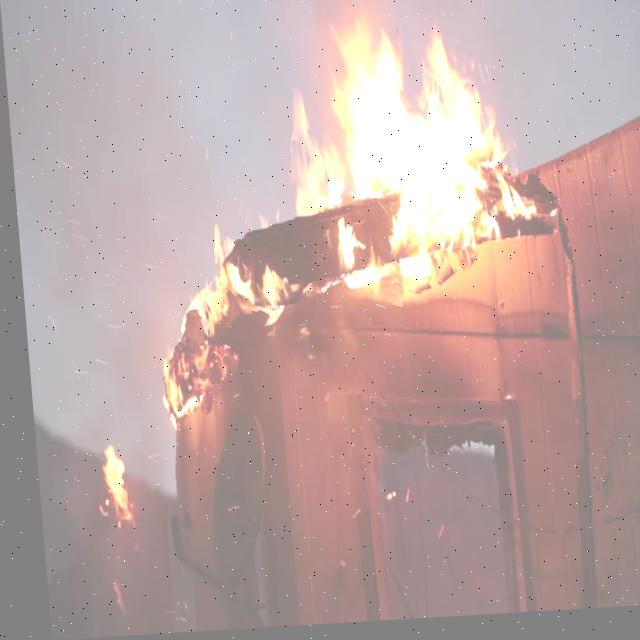Fire: (117, 0, 566, 435), (86, 442, 126, 530)
